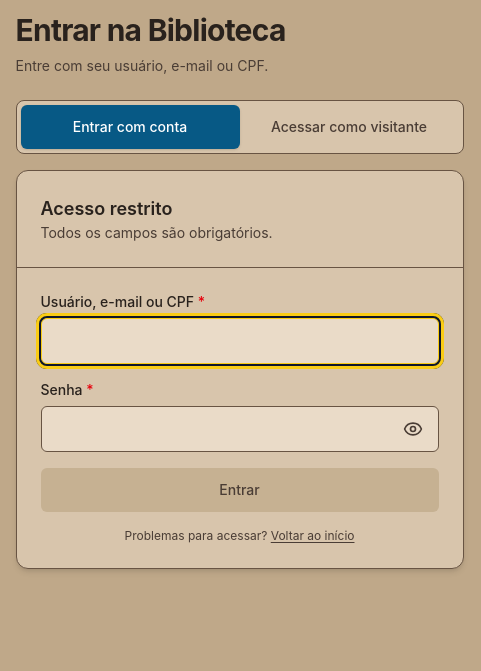
Test: Guest school autocomplete › shows a clear message when the API cannot be reached during account login
Expected: the tab "Entrar com conta" is shown, [20,105,240,149]
In the field labelled "Usuário, e-mail ou CPF *": (240, 341) [40,318,438,364], type "bibliotecario"
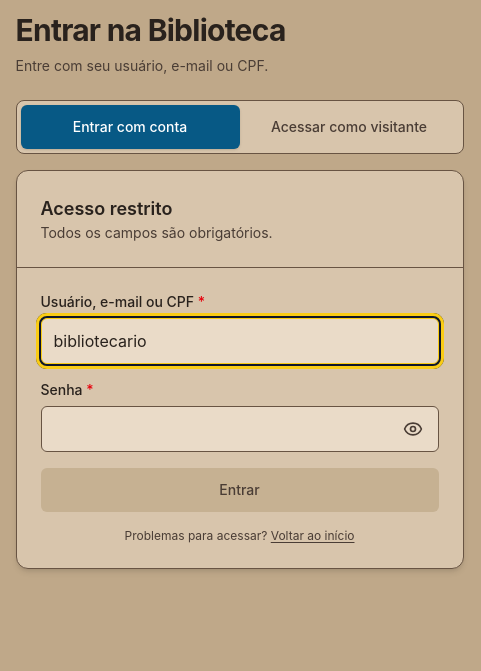
In the password field labelled "Senha *": (240, 429) [40,406,438,452], type "senha-segura"
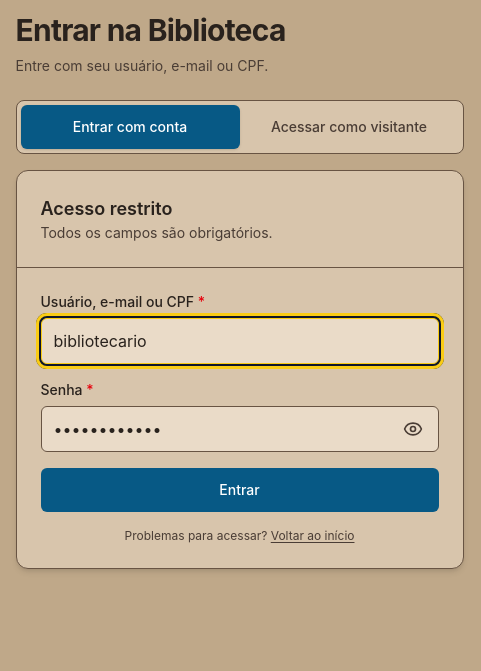
Click the button "Entrar": (240, 490) [40,468,438,512]
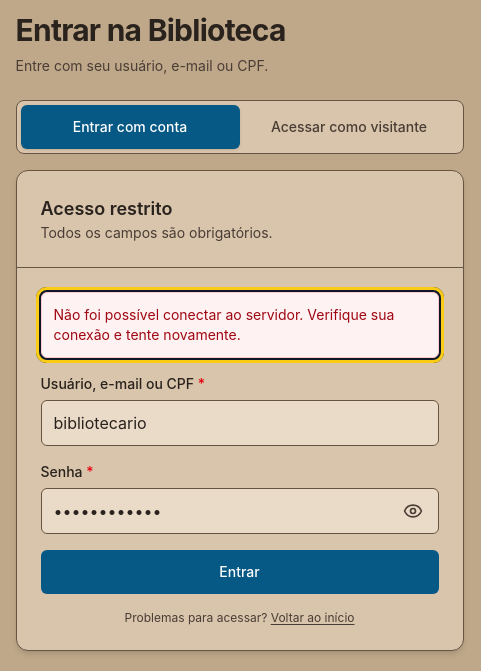
Expected: the message reads "Não foi possível conectar ao servidor. Verifique sua conexão e tente novamente.", [54,306,394,343]
